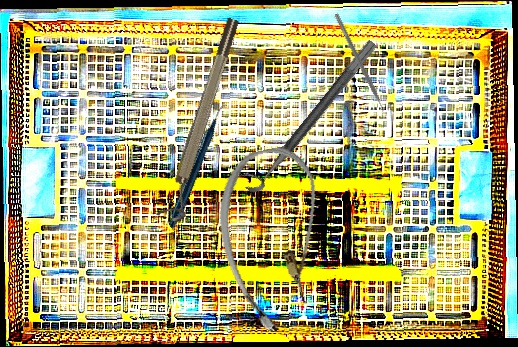Cannula: (205, 141, 344, 338)
Fixation Ring: (234, 29, 379, 197), (155, 15, 252, 225)
Handpiece: (130, 103, 268, 230)
Spatula Surgical: (329, 13, 390, 118)
